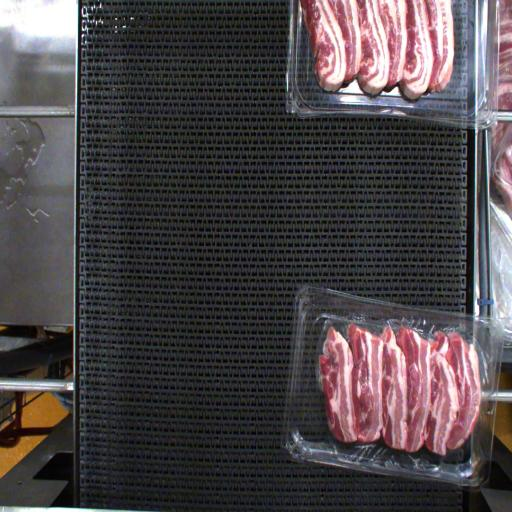unsealed: (310, 299, 492, 472)
